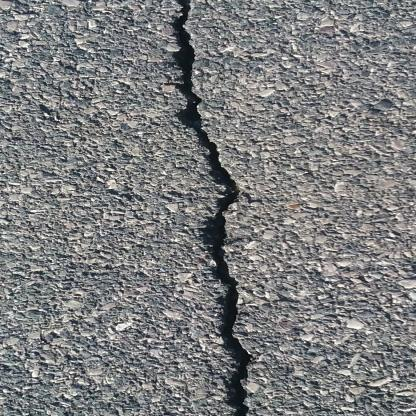Cracks: (144, 0, 254, 416)
